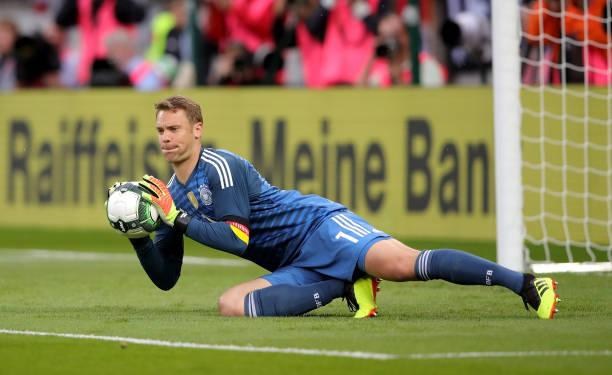Goalkeeper: (130, 96, 558, 319)
ball: (109, 182, 157, 238)
